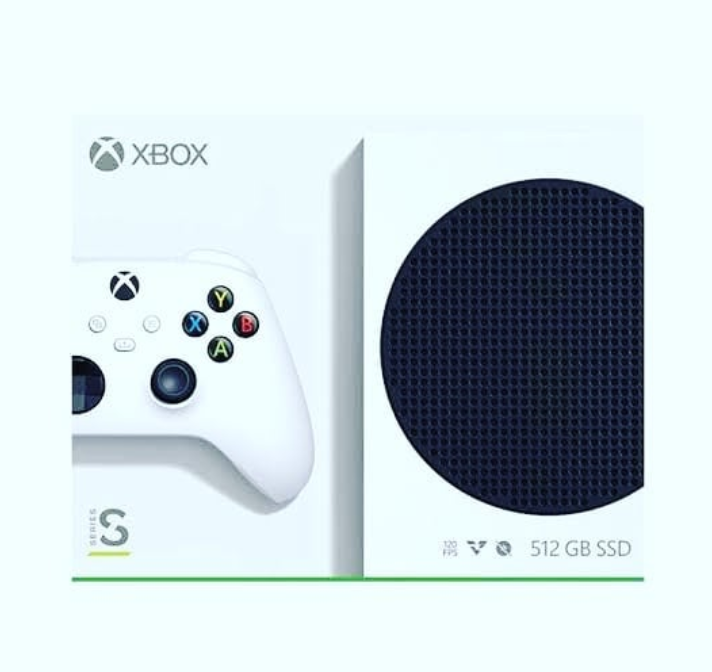gamingconsole: (72, 248, 316, 507)
